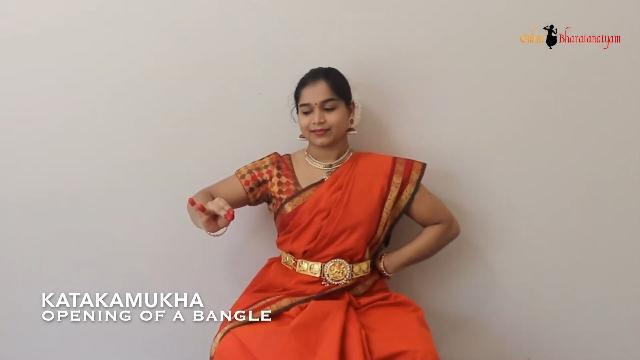katak: (175, 180, 257, 256)
